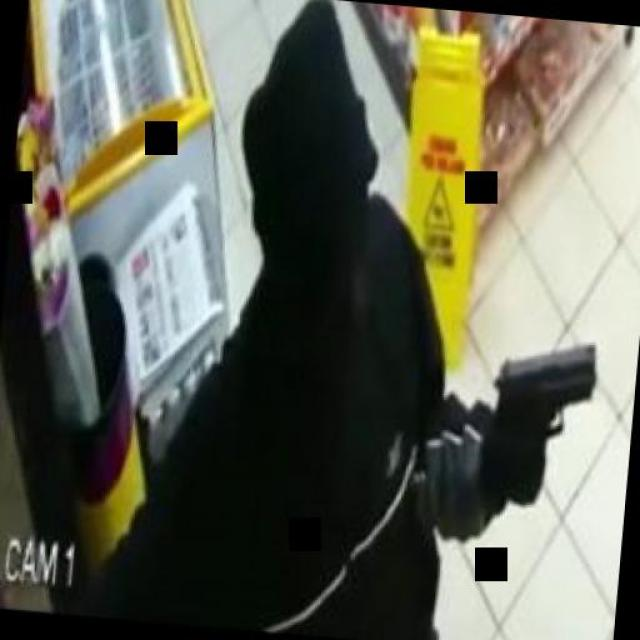gun: (482, 330, 602, 509)
